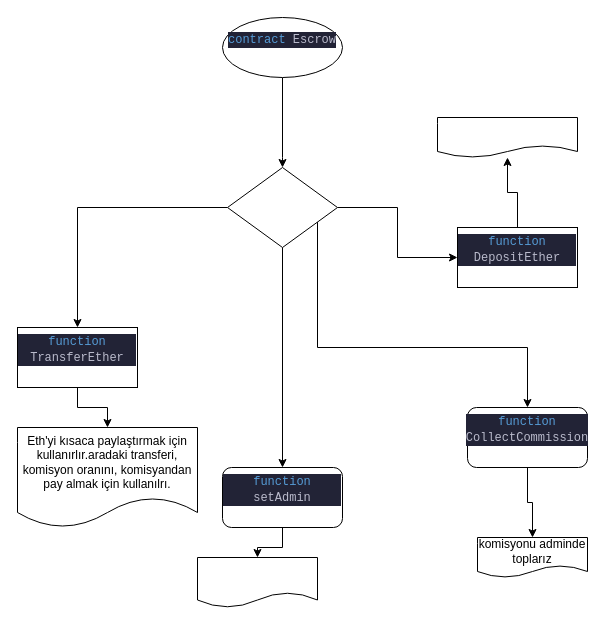
The diagram is 606 pixels wide and 625 high, and some of its shapes have lost their labels. The centre of each missing label's shape, as x and y in pixels:
"constructor" goes at pixel 282 207.
"Kime gönderdiğimizi doğrularız" goes at pixel 507 137.
"yeni admin atamak için" goes at pixel 257 582.
